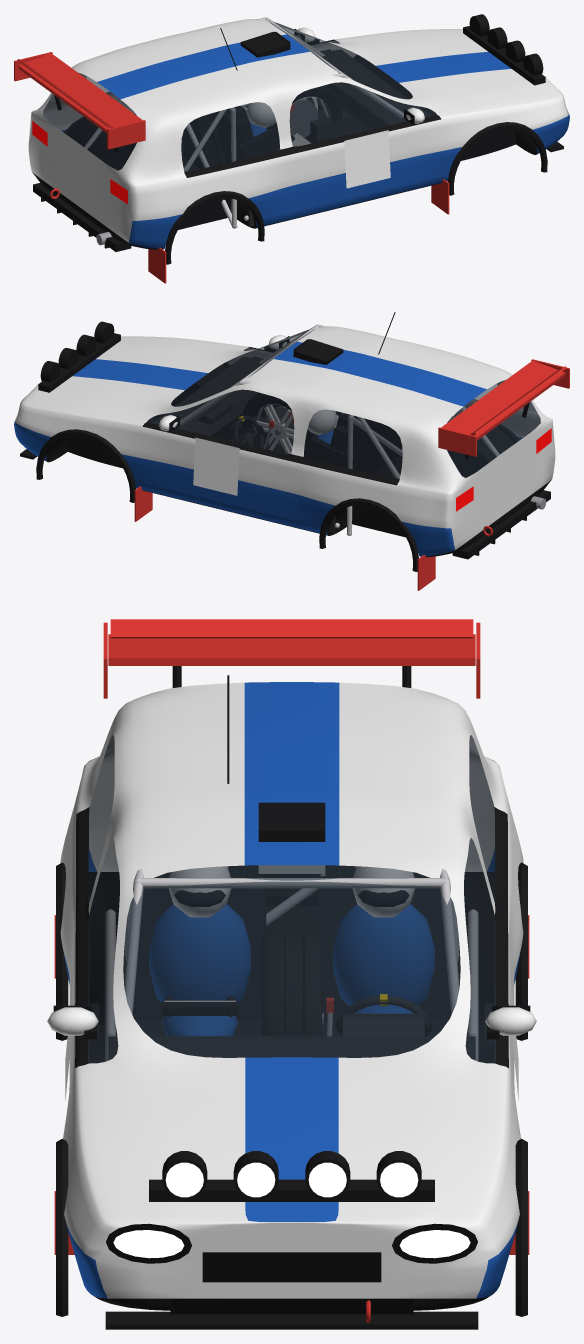
The model's file is car.glb.
The picture shows the model from 3 angles, top to bottom: view 1: azimuth 30°, elevation 25°; view 2: azimuth 150°, elevation 25°; view 3: azimuth 270°, elevation 25°; orthographic projection. The views are drawn at different scales.
Parts seen in each view (by area): view 1: Body, Glass, Interior, Wing, Arches, Details, LightPod, Cage, Numbers, Wheel, Mudflaps, CodriverFigure (+2 smaller); view 2: Body, Glass, Interior, Wing, Arches, Details, LightPod, Numbers, Cage, Wheel, Mudflaps, DriverFigure (+3 smaller); view 3: Body, Glass, Interior, Wing, CodriverFigure, LightPod, DriverFigure, Details, Cage, Grille, Arches, Wheel (+4 smaller).
Part boxes in pixels (x1,y1,x2,y2): Body: [28, 19, 569, 249]; Glass: [43, 22, 436, 171]; Interior: [181, 49, 431, 226]; Wing: [14, 52, 145, 152]; Arches: [64, 54, 547, 264]; Details: [33, 28, 563, 251]; LightPod: [463, 14, 545, 85]; Cage: [84, 17, 403, 228]; Numbers: [344, 130, 390, 188]; Wheel: [266, 85, 342, 149]; Mudflaps: [148, 179, 449, 283]; CodriverFigure: [246, 102, 294, 141]; Body: [14, 326, 555, 557]; Glass: [147, 329, 540, 478]; Interior: [152, 356, 402, 534]; Wing: [438, 359, 569, 459]; Arches: [36, 362, 519, 571]; Details: [20, 312, 550, 559]; LightPod: [38, 321, 120, 392]; Numbers: [193, 437, 239, 495]; Cage: [180, 324, 499, 535]; Wheel: [241, 392, 317, 457]; Mudflaps: [134, 486, 435, 590]; DriverFigure: [308, 409, 337, 443]; Body: [60, 682, 523, 1310]; Glass: [88, 735, 495, 1063]; Interior: [88, 865, 495, 1063]; Wing: [103, 619, 480, 698]; CodriverFigure: [149, 866, 250, 1036]; LightPod: [149, 1151, 434, 1201]; DriverFigure: [333, 866, 434, 1013]; Details: [105, 675, 478, 1329]; Cage: [105, 869, 478, 1061]; Grille: [170, 1252, 413, 1314]; Arches: [56, 862, 527, 1316]; Wheel: [262, 932, 323, 1036].
Bounding box in the file's own units: 4.27 × 1.73 × 1.92.
